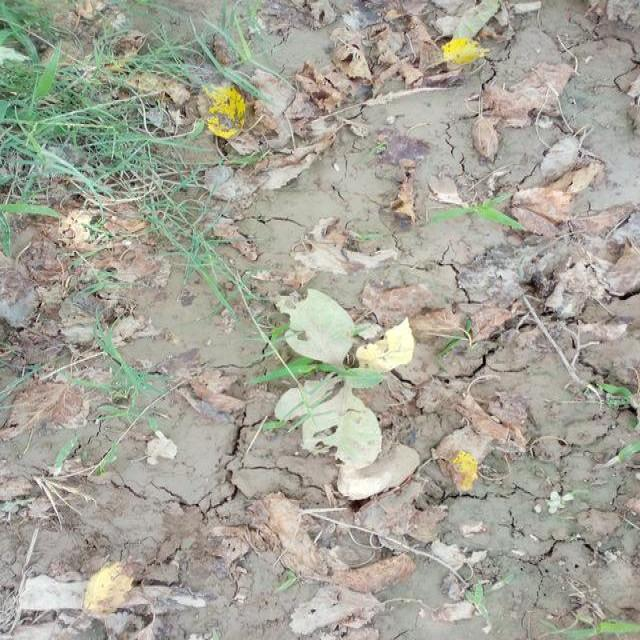crop: (270, 287, 414, 475)
